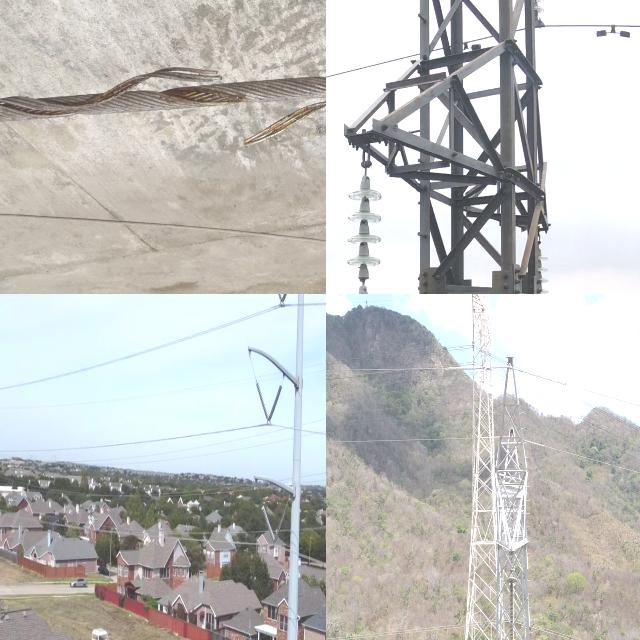杆塔: (347, 0, 554, 294), (450, 294, 529, 640), (491, 358, 558, 640)
正常电缆: (326, 48, 419, 85), (541, 20, 640, 35)
正常绝缘子: (335, 149, 391, 294), (254, 491, 282, 555), (264, 502, 291, 562), (249, 370, 274, 430), (262, 379, 288, 435), (505, 574, 517, 640), (274, 294, 292, 318), (274, 294, 287, 312)
绝缘子破损: (356, 271, 370, 294)
